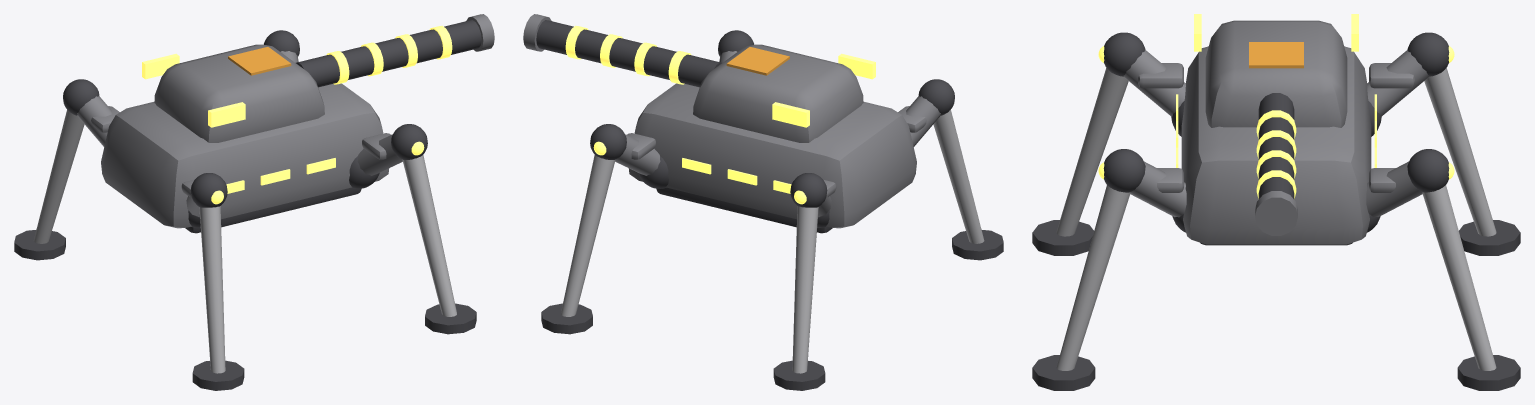
Rendered from rob_tank.glb.
3 views of the same model, side by side, from view 1: azimuth 30°, elevation 25°; view 2: azimuth 150°, elevation 25°; view 3: azimuth 270°, elevation 25° (orthographic). The views are drawn at different scales.
Parts seen in each view (by area): view 1: rob_tank, turret_m, limb_r0_m, limb_r1_m, limb_l1_m, limb_l0_m; view 2: rob_tank, turret_m, limb_l0_m, limb_l1_m, limb_r1_m, limb_r0_m; view 3: rob_tank, turret_m, limb_l0_m, limb_r0_m, limb_l1_m, limb_r1_m.
Boxes of the visible parts, x1=… form: rob_tank: x1=101, y1=83, x2=389, y2=233; turret_m: x1=142, y1=14, x2=494, y2=142; limb_r0_m: x1=349, y1=124, x2=476, y2=334; limb_r1_m: x1=181, y1=173, x2=244, y2=390; limb_l1_m: x1=14, y1=79, x2=119, y2=260; limb_l0_m: x1=263, y1=30, x2=299, y2=62; rob_tank: x1=628, y1=83, x2=916, y2=233; turret_m: x1=523, y1=14, x2=875, y2=142; limb_l0_m: x1=541, y1=124, x2=668, y2=334; limb_l1_m: x1=773, y1=173, x2=836, y2=390; limb_r1_m: x1=898, y1=79, x2=1003, y2=260; limb_r0_m: x1=718, y1=30, x2=754, y2=62; rob_tank: x1=1176, y1=46, x2=1376, y2=245; turret_m: x1=1194, y1=14, x2=1358, y2=235; limb_l0_m: x1=1366, y1=149, x2=1520, y2=390; limb_r0_m: x1=1032, y1=149, x2=1186, y2=390; limb_l1_m: x1=1367, y1=32, x2=1520, y2=255; limb_r1_m: x1=1032, y1=32, x2=1185, y2=255.
Bounding box in the file's own units: 1.32 × 0.744 × 1.24.
